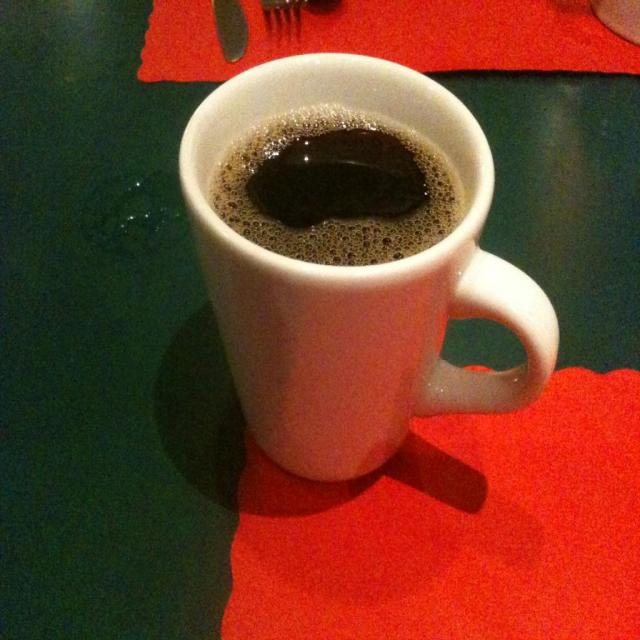Coffee: (211, 102, 467, 269)
Tea: (207, 102, 466, 266)
